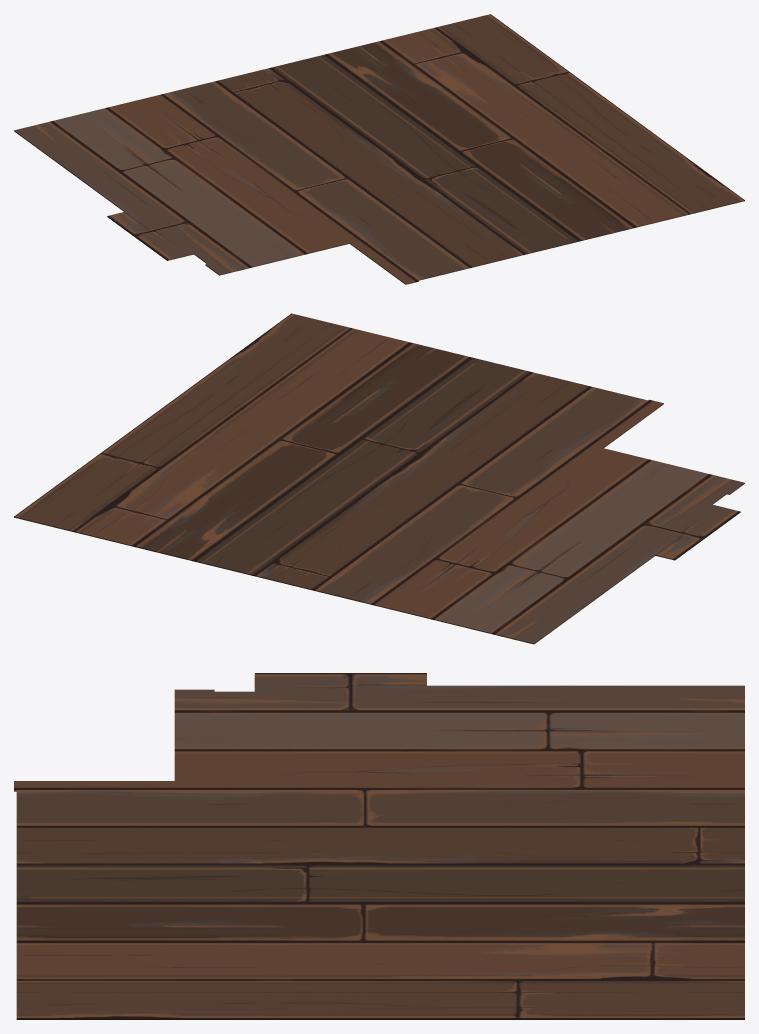
File: MSH_Piso1_Suelo.FBX
The picture shows the model from 3 angles, top to bottom: view 1: azimuth 30°, elevation 25°; view 2: azimuth 150°, elevation 25°; view 3: azimuth 270°, elevation 25°; orthographic projection. The views are drawn at different scales.
Visible parts, largest first — view 1: MSH_Piso1_Suelo; view 2: MSH_Piso1_Suelo; view 3: MSH_Piso1_Suelo.
Part boxes in pixels (x1,y1,x2,y2): MSH_Piso1_Suelo: (14,14,744,284); MSH_Piso1_Suelo: (14,313,744,644); MSH_Piso1_Suelo: (14,673,744,1019).
Bounding box in the file's own units: 887 × 1.62 × 793.
